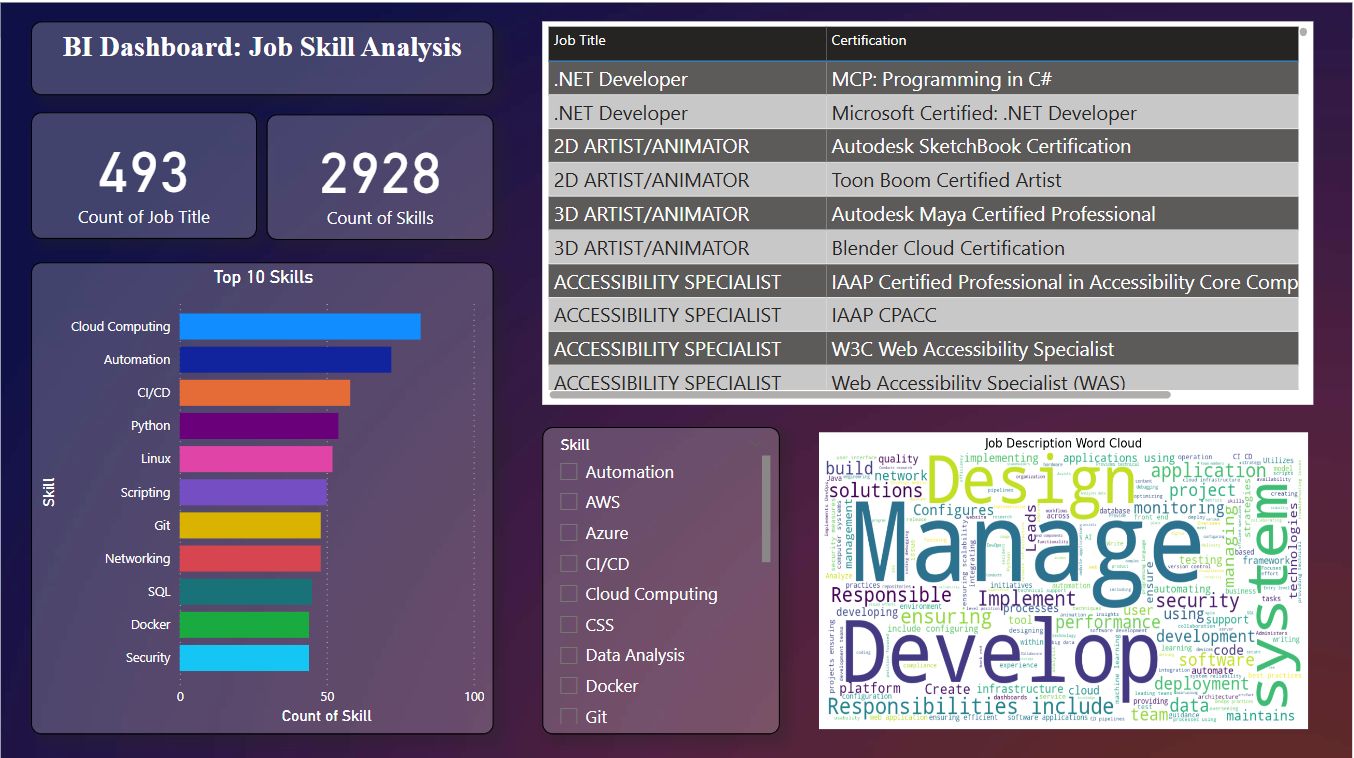

What the dashboard file says about the page in this screenshot:
{"tool":"powerbi","page":{"name":"Page 1","canvas":[1280,720],"ordinal":0},"visuals":[{"type":"barChart","title":"Top 10 Skills","fields":{"Category":["job_skills.Skill"],"Y":["CountNonNull(job_skills.Skill)"],"Series":["job_skills.Skill"]},"box":[28.8,245.6,437.7,447.3],"z":0},{"type":"card","fields":{"Values":["CountNonNull(job_main.Job Title)"]},"box":[28.8,104.3,214.1,119.4],"z":1},{"type":"card","fields":{"Values":["CountNonNull(job_skills.Skill)"]},"box":[252.5,105.7,214.1,119.4],"z":2},{"type":"textbox","box":[28.8,17.8,437.7,70],"z":3},{"type":"image","box":[769.8,402.1,473.4,290.9],"z":4},{"type":"tableEx","fields":{"Values":["job_certs.Job Title","job_certs.Certification"]},"box":[513.2,17.8,730,363.6],"z":5},{"type":"slicer","fields":{"Values":["job_skills.Skill"]},"box":[513.2,402.1,225,290.9],"z":6}]}

Visuals, with their boxes in screenshot pixels (x1, y1, x2, y2), scaled from the page's 1280x720 canvas onto the 1354x758 screenshot:
"Top 10 Skills" barChart: bbox=(30, 259, 493, 729)
card - CountNonNull(job_main.Job Title): bbox=(30, 110, 257, 236)
card - CountNonNull(job_skills.Skill): bbox=(267, 111, 494, 237)
textbox: bbox=(30, 19, 493, 92)
image: bbox=(814, 423, 1315, 730)
tableEx - job_certs.Job Title x job_certs.Certification: bbox=(543, 19, 1315, 402)
slicer - job_skills.Skill: bbox=(543, 423, 781, 730)
